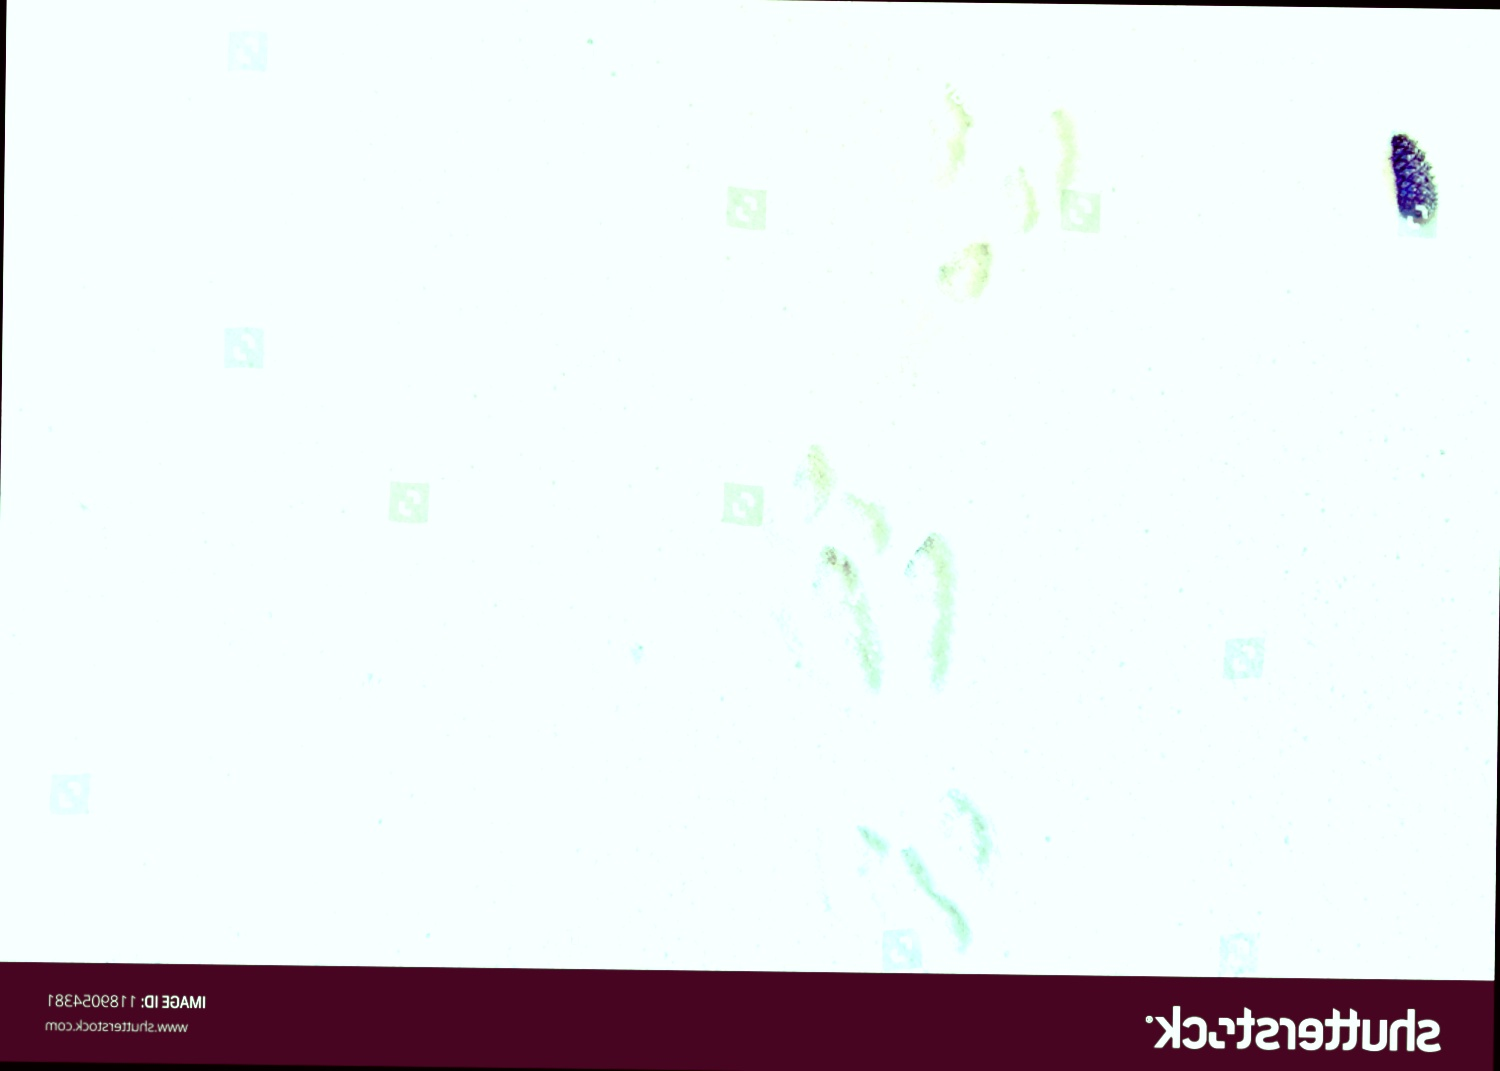lapin: (758, 428, 986, 720), (891, 54, 1098, 314), (817, 772, 1032, 964)
